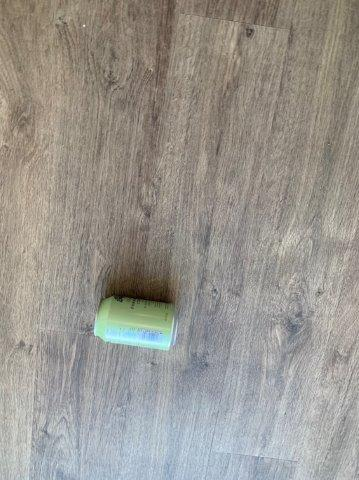kaleng: (94, 297, 179, 349)
